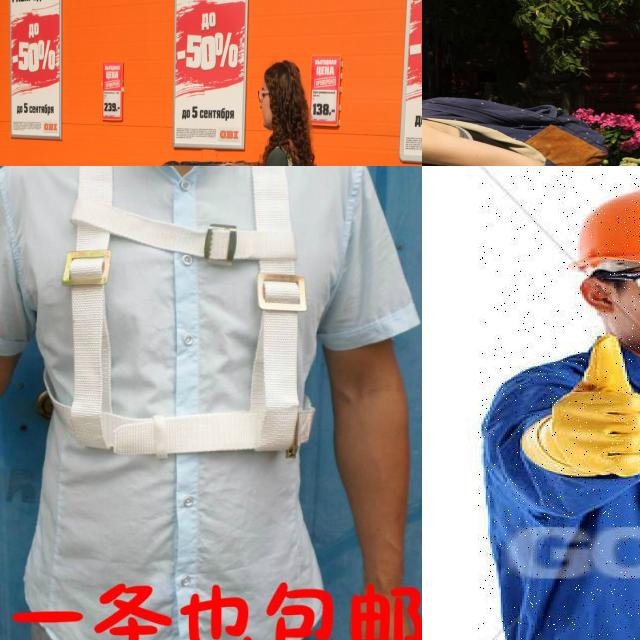Harness: (32, 166, 327, 639)
No_Ear-Protection: (575, 272, 617, 328)
hand_glove: (522, 334, 640, 476)
head_helmet: (574, 190, 640, 270)
